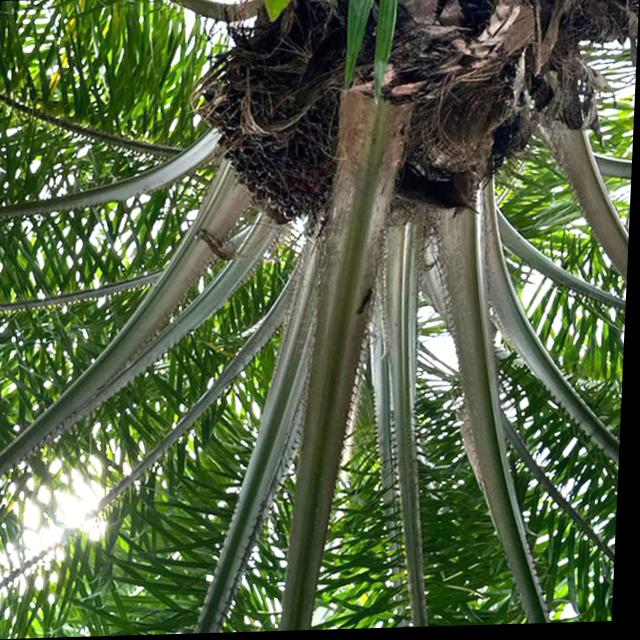almost: (187, 54, 360, 236)
